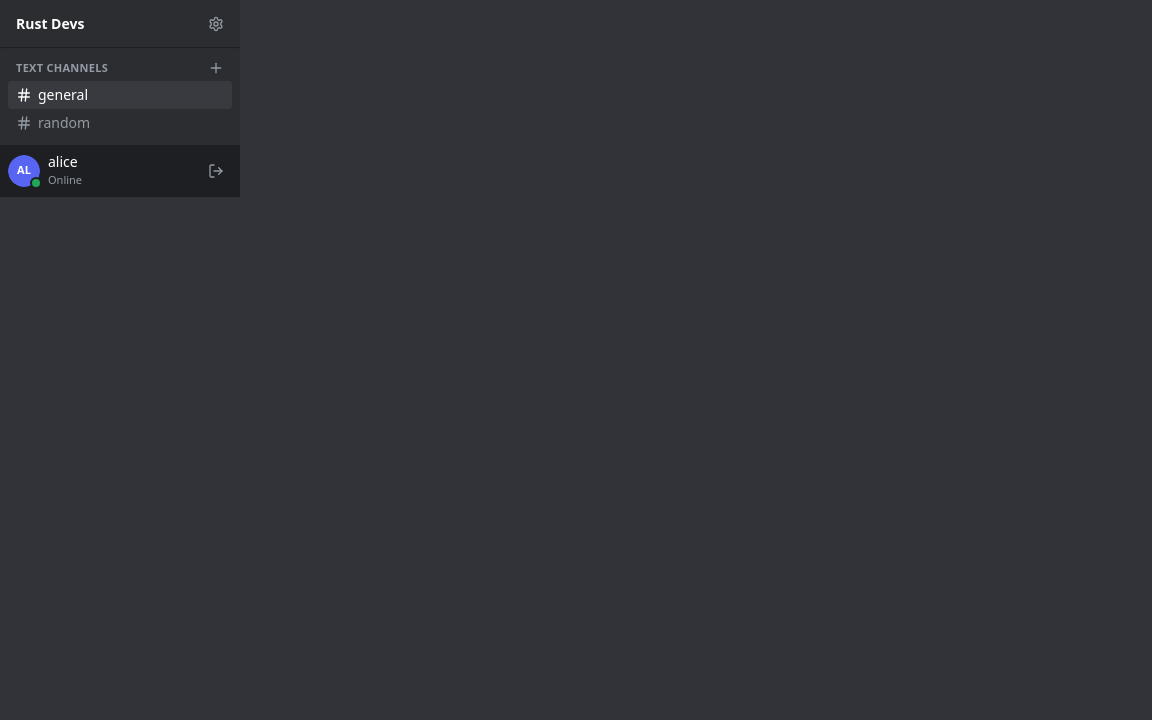
Scenario: ChannelSidebar › shows error in dialog when channel creation fails
The image size is (1152, 720).
Click the button named "create channel" at (216, 68), box [208,60,224,76]
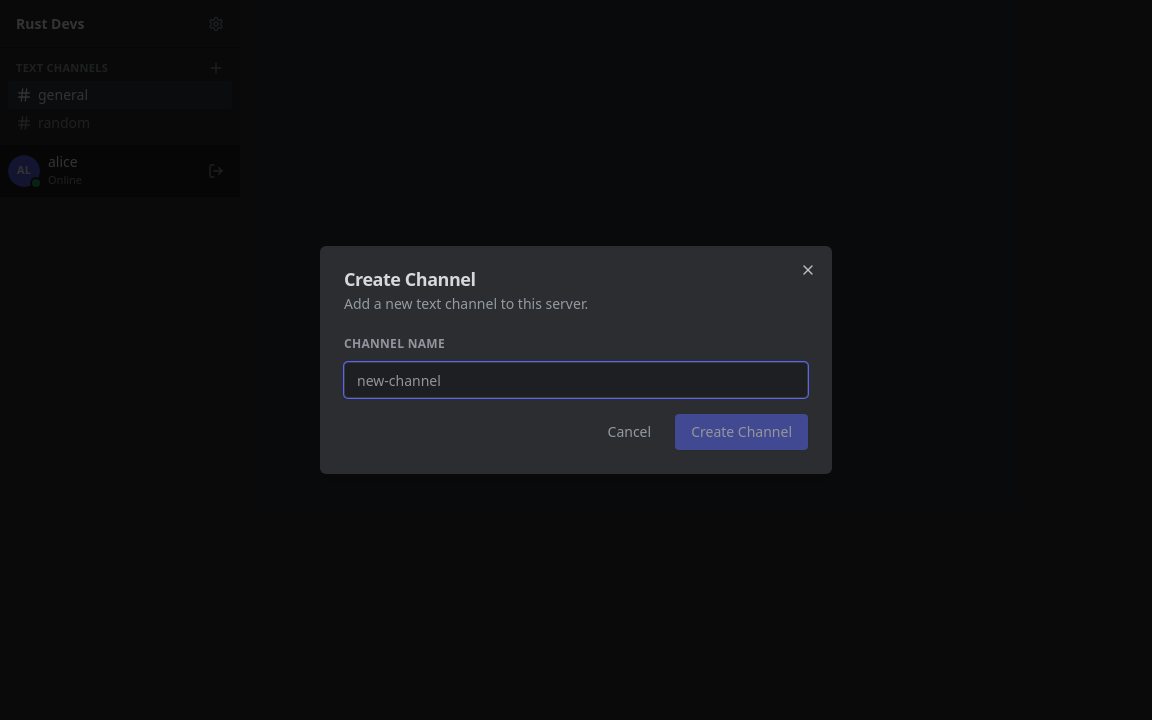
Expected: the dialog is shown, [320,246,832,474]
Type "fail-channel" into the field labelled "Channel Name" at (576, 380), box [344,362,808,398]
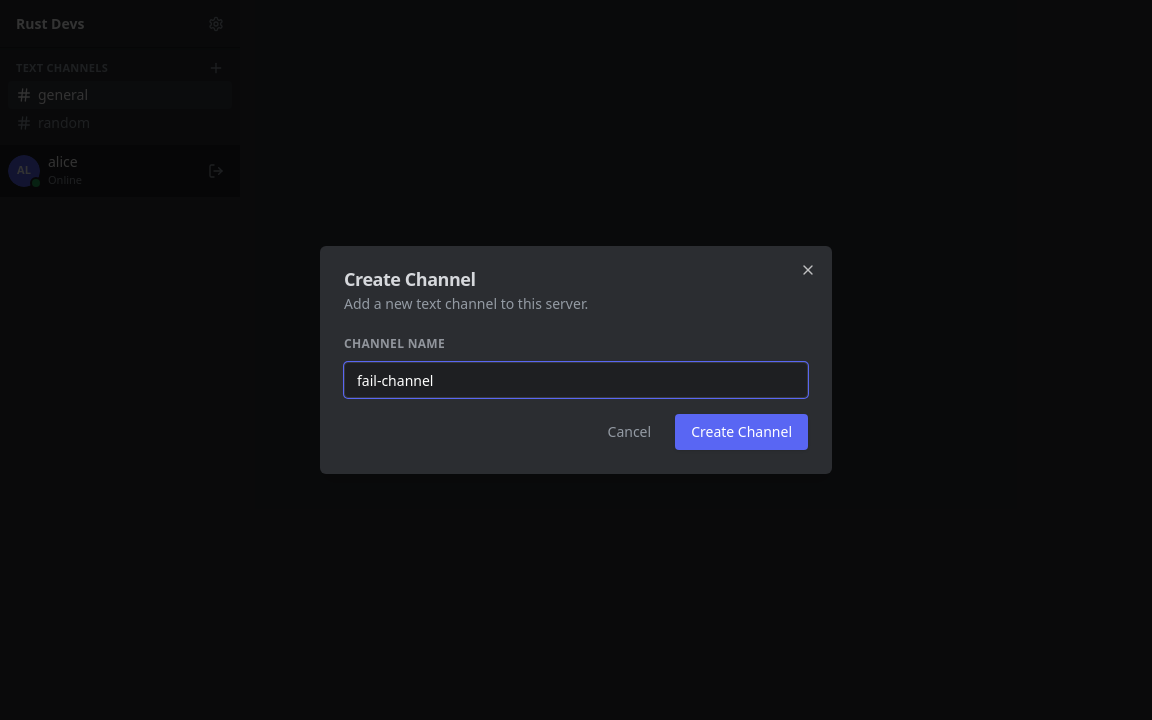
Click the button "Create Channel" at (742, 432), box [675,414,808,450]
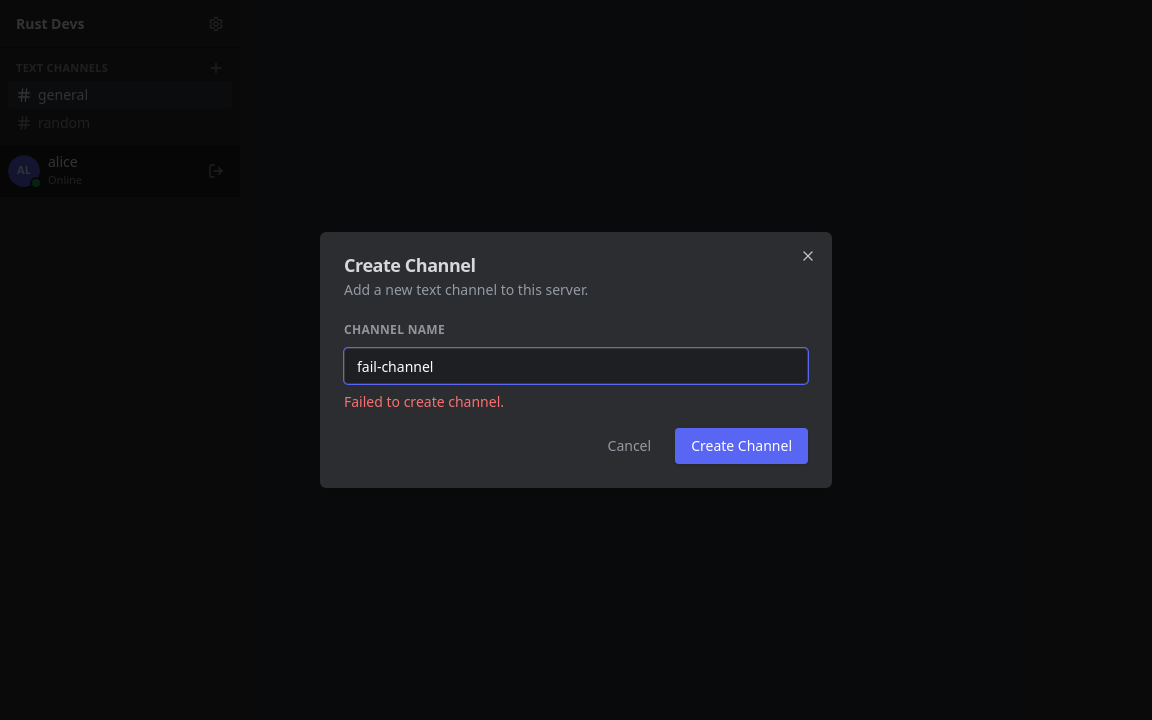
Expected: the text "Failed to create channel." is shown, [344,392,504,411]
